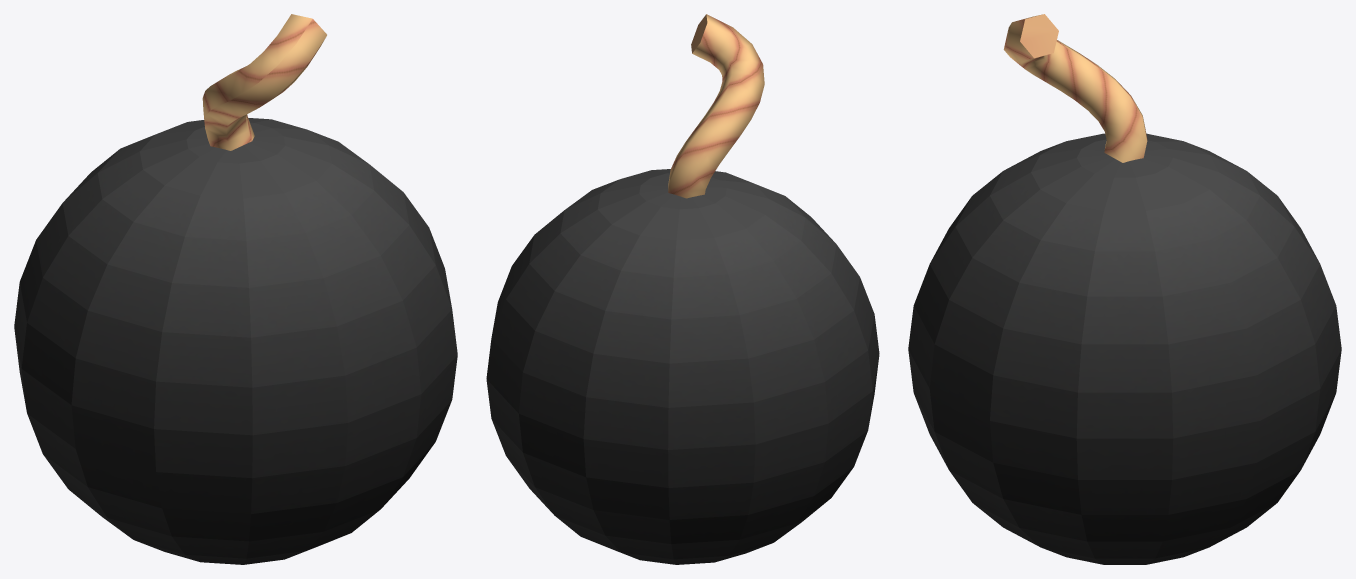
Rendered from bomb.fbx.
The picture shows the model from 3 angles, left to right: view 1: azimuth 30°, elevation 25°; view 2: azimuth 150°, elevation 25°; view 3: azimuth 270°, elevation 25°; orthographic projection. The views are drawn at different scales.
Visible parts, largest first — view 1: bomb, bomb_wick; view 2: bomb, bomb_wick; view 3: bomb, bomb_wick.
Part boxes in pixels (x1=…): bomb: x1=14, y1=118, x2=457, y2=564; bomb_wick: x1=202, y1=14, x2=326, y2=150; bomb: x1=486, y1=169, x2=879, y2=564; bomb_wick: x1=668, y1=14, x2=764, y2=198; bomb: x1=908, y1=133, x2=1341, y2=564; bomb_wick: x1=1003, y1=14, x2=1147, y2=162.
Bounding box in the file's own units: 54.58 × 76.7 × 55.99.
